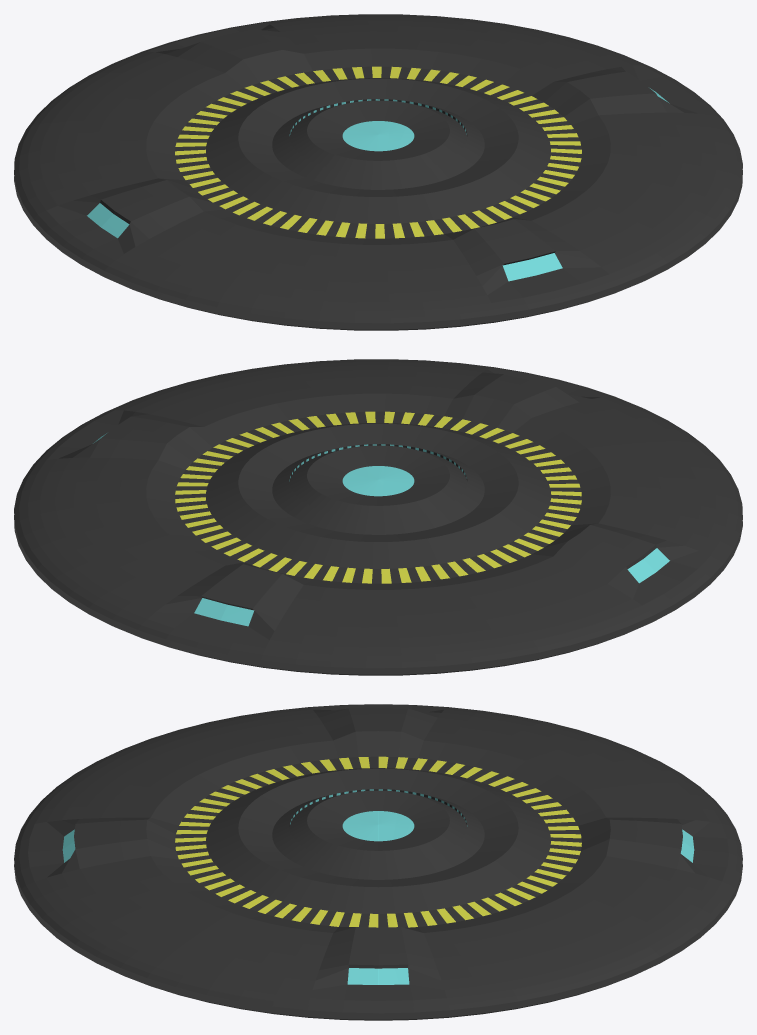
Rendered from Mothership.fbx.
3 views of the same model, one above another, from view 1: azimuth 30°, elevation 25°; view 2: azimuth 150°, elevation 25°; view 3: azimuth 270°, elevation 25° (orthographic).
Parts seen in each view (by area): view 1: MotherShip; view 2: MotherShip; view 3: MotherShip.
Part boxes in pixels (x1,y1,x2,y2): MotherShip: [14, 14, 742, 330]; MotherShip: [14, 359, 742, 675]; MotherShip: [14, 704, 742, 1020].
Size of the model in its own units: 19904 by 2408 by 19904.
